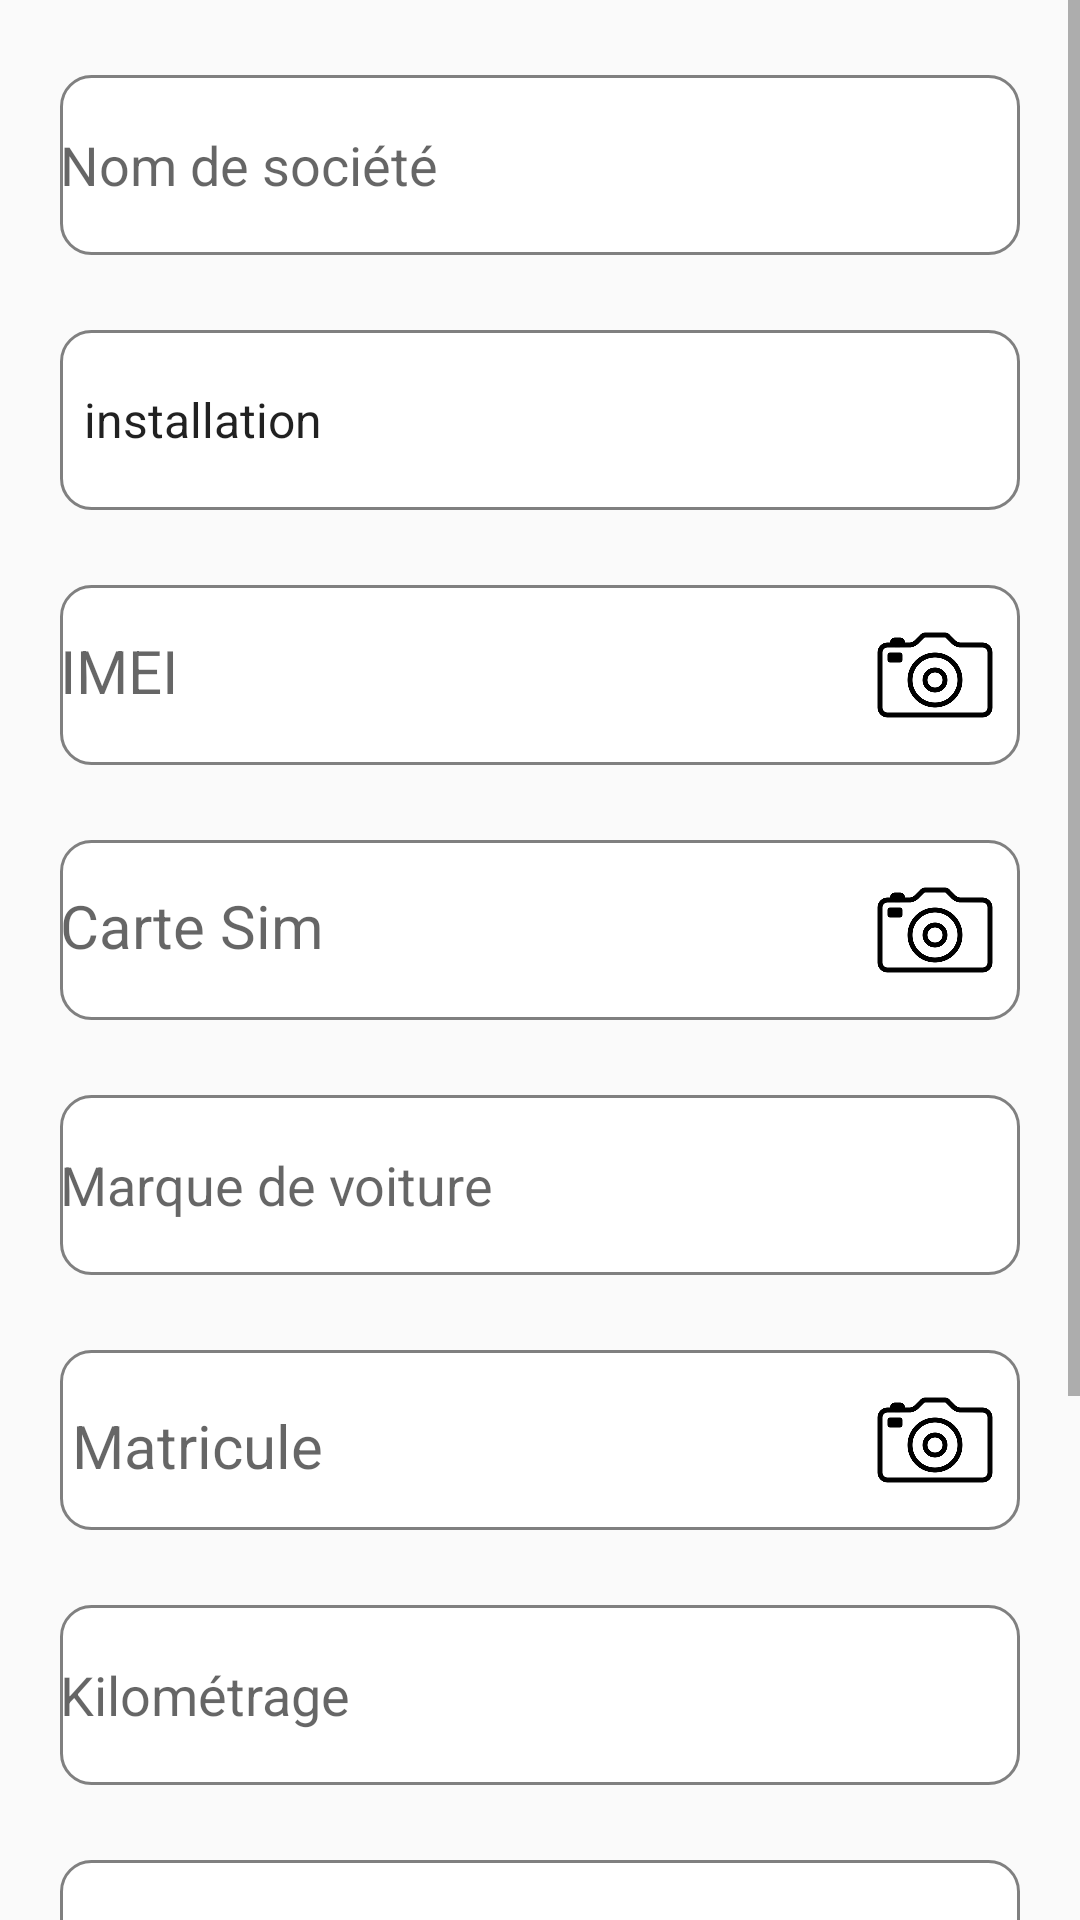

Screen size 1080*1920. Icon name, then its box in pixels as (x1, y1, x2, y2):
camera: (877, 632, 993, 718), (877, 887, 993, 973), (877, 1397, 993, 1483)
